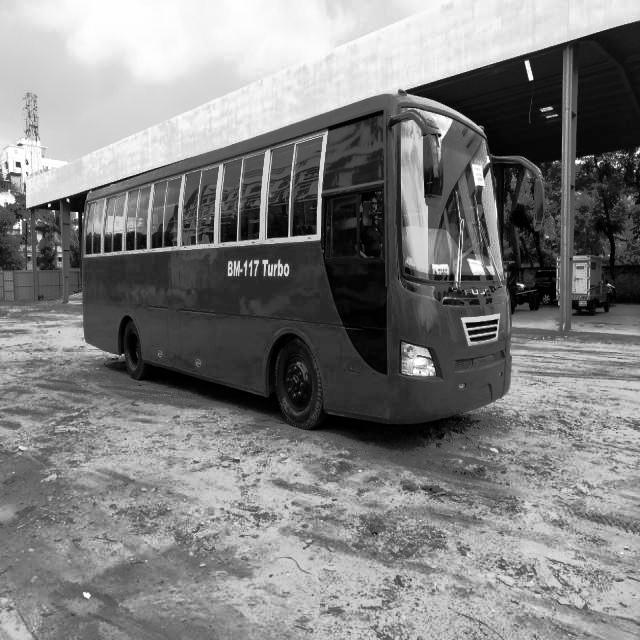Bus: (66, 77, 550, 462)
